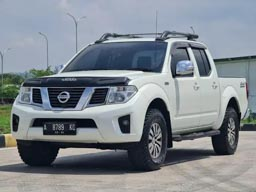plat: (42, 122, 75, 129)
